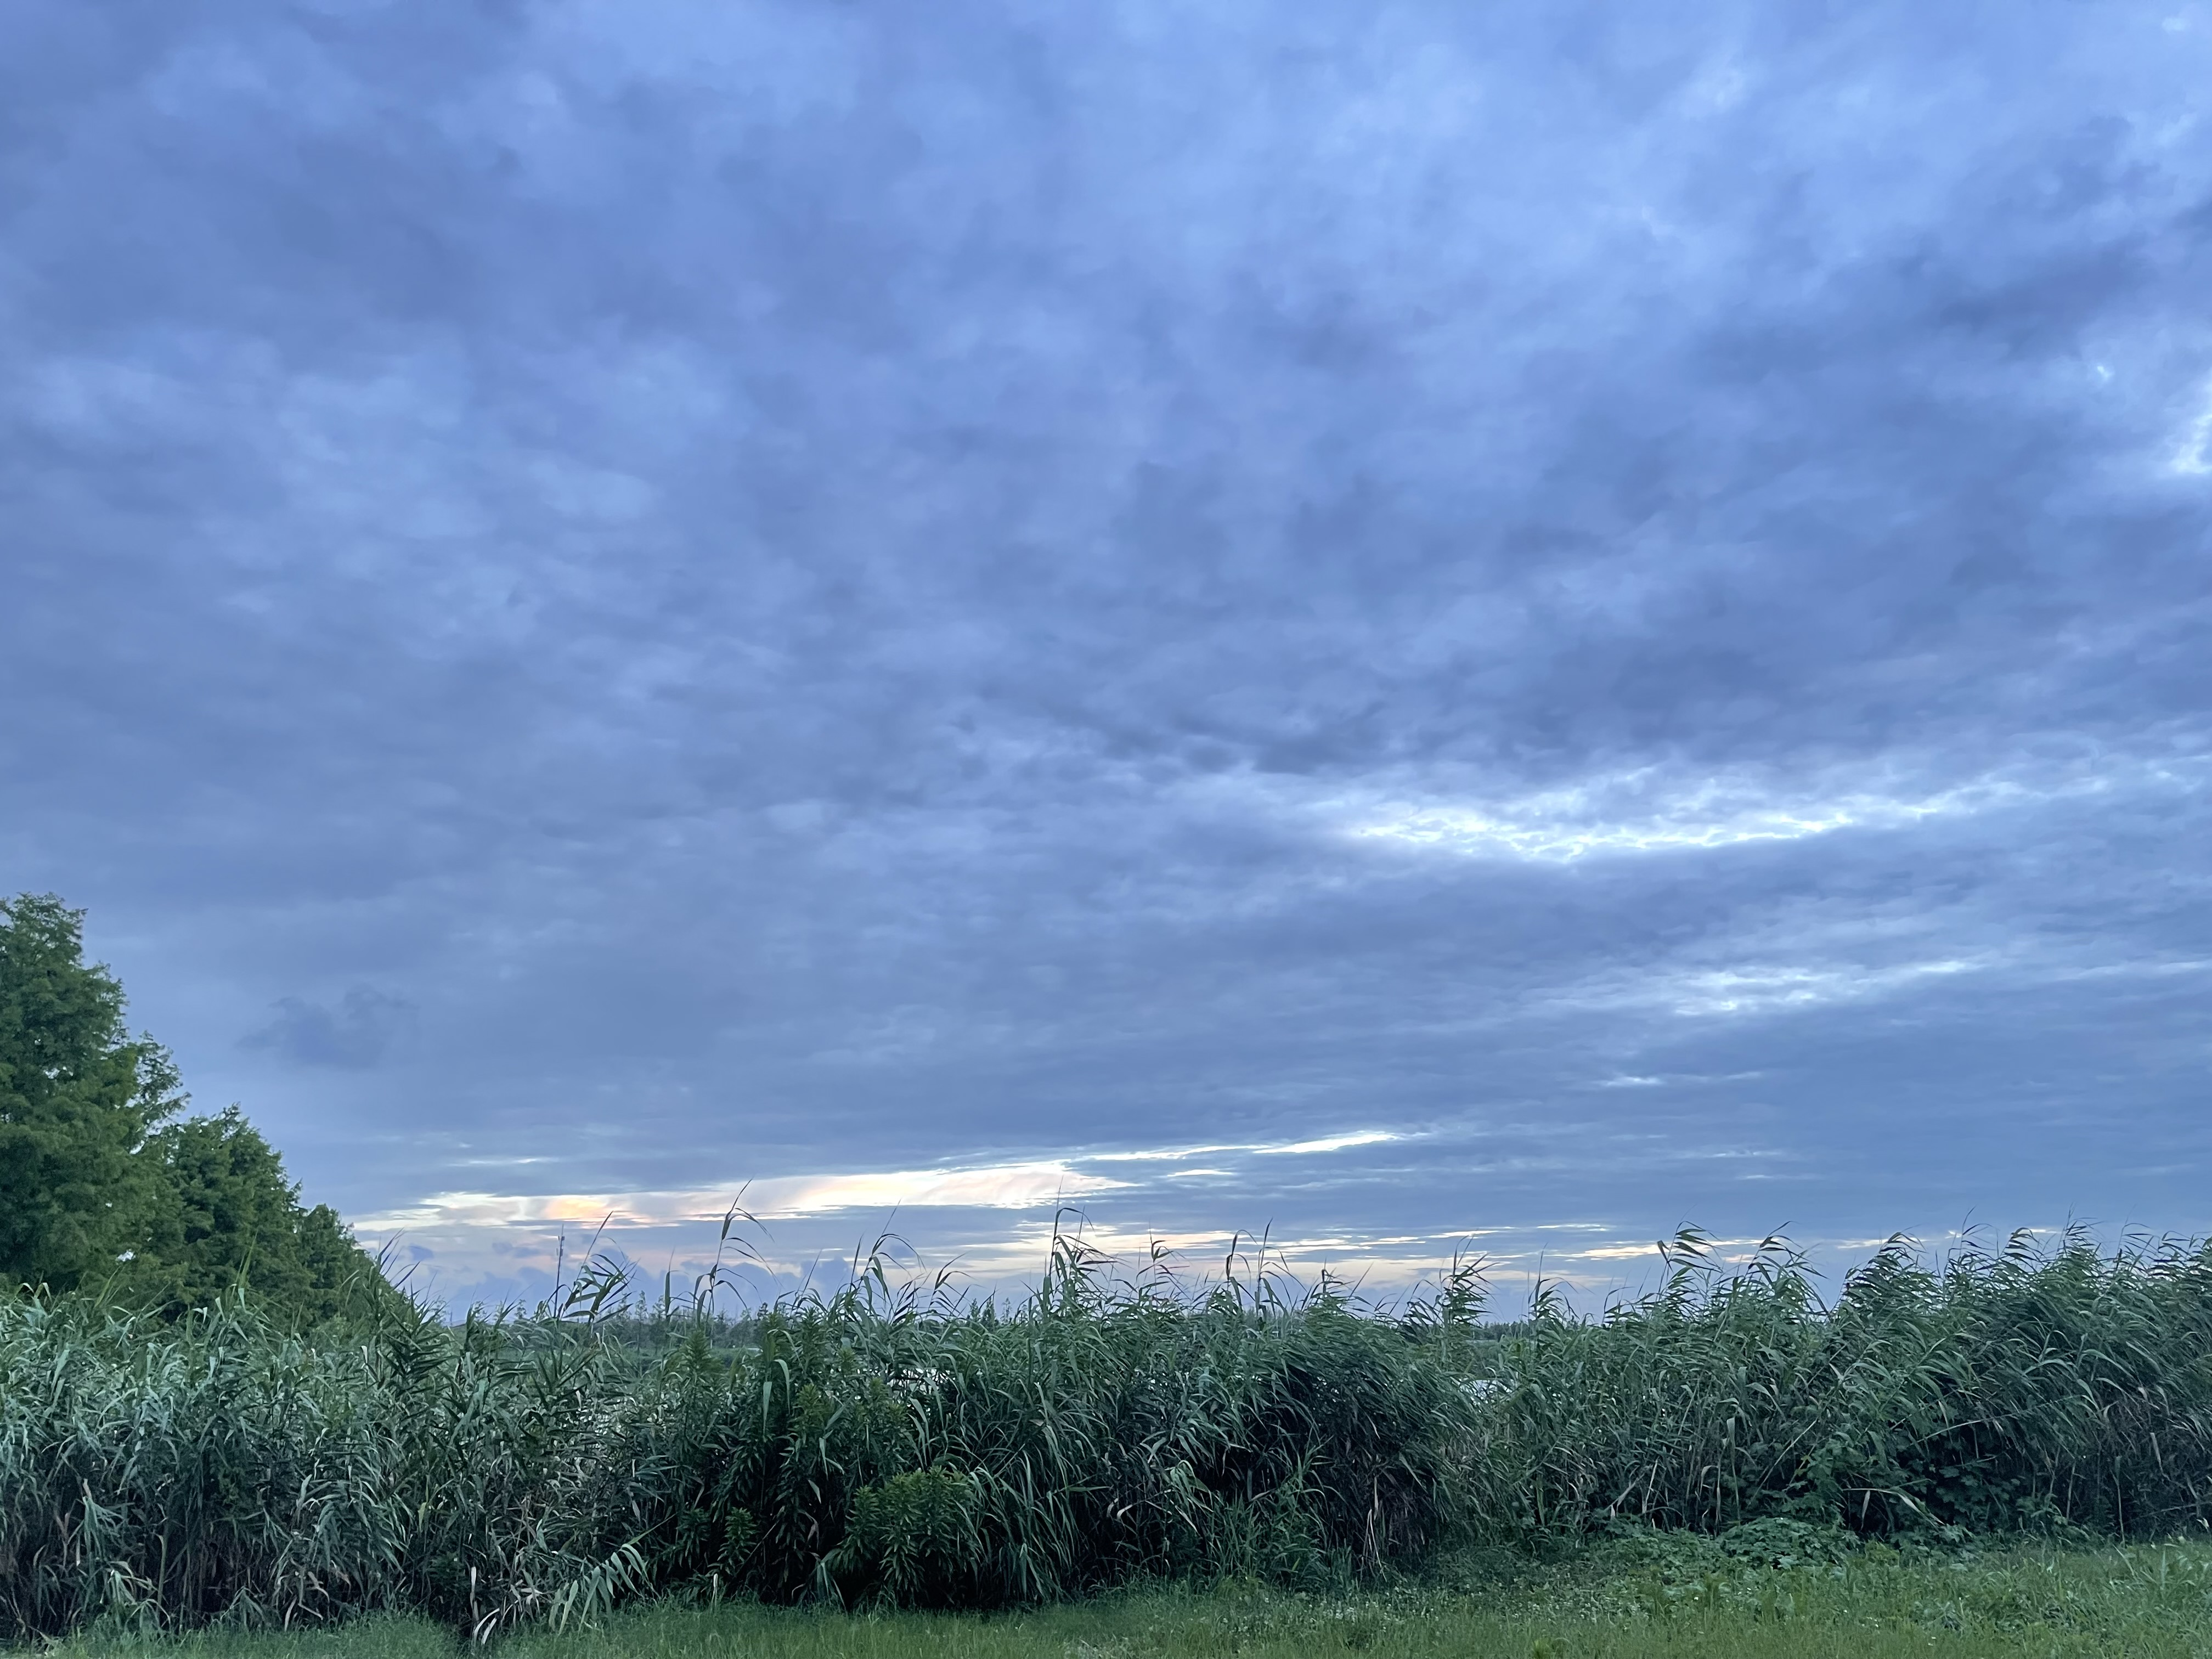Stratus: (30, 17, 2188, 1021), (418, 1115, 2137, 1284)
